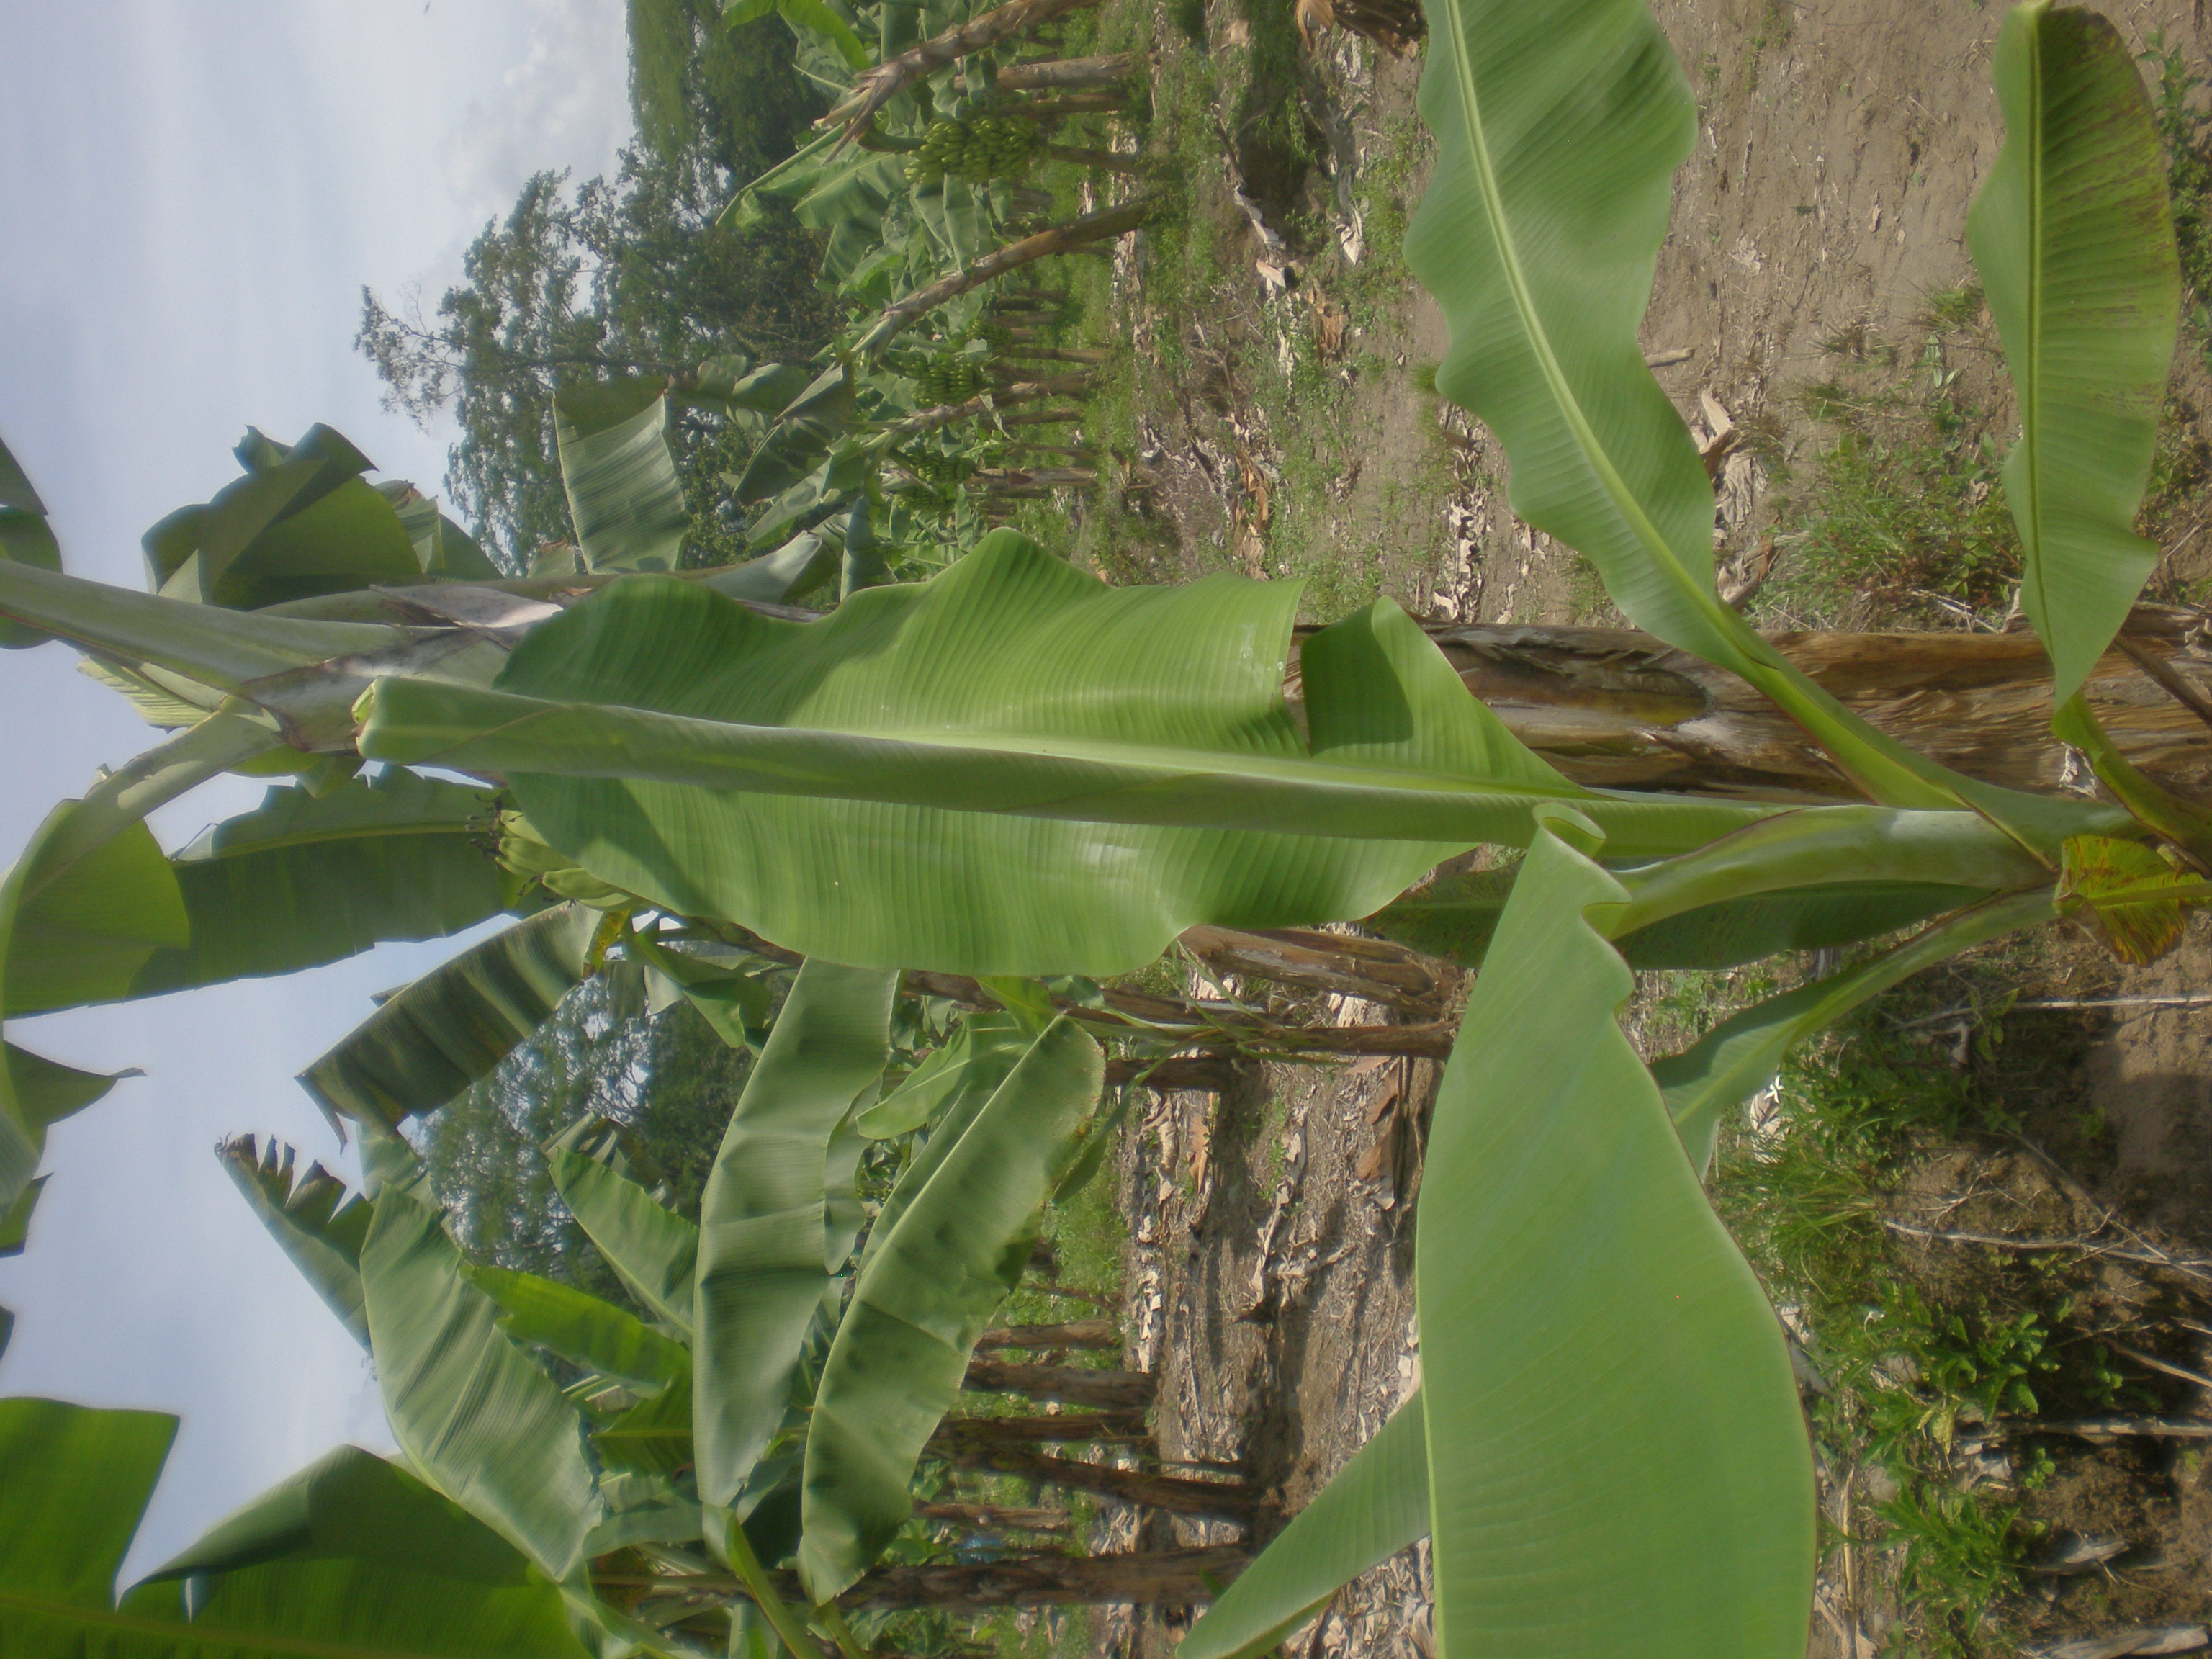candleleafs: (352, 676, 1519, 859)
